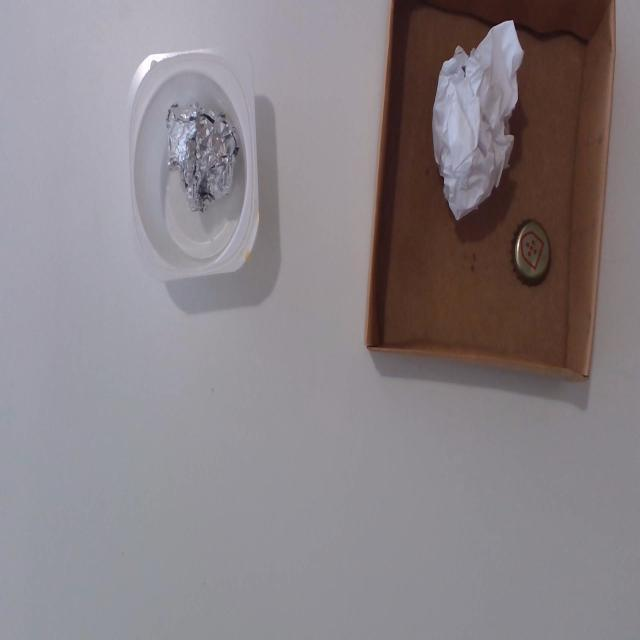Paper: (441, 23, 526, 224)
